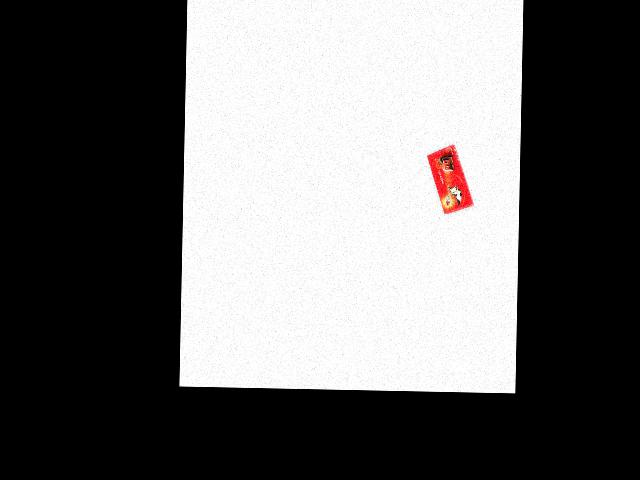chocolate: (424, 143, 475, 213)
